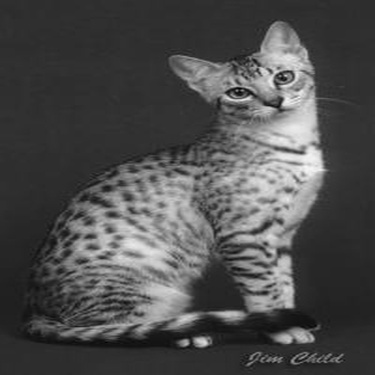cat: (24, 26, 340, 350)
